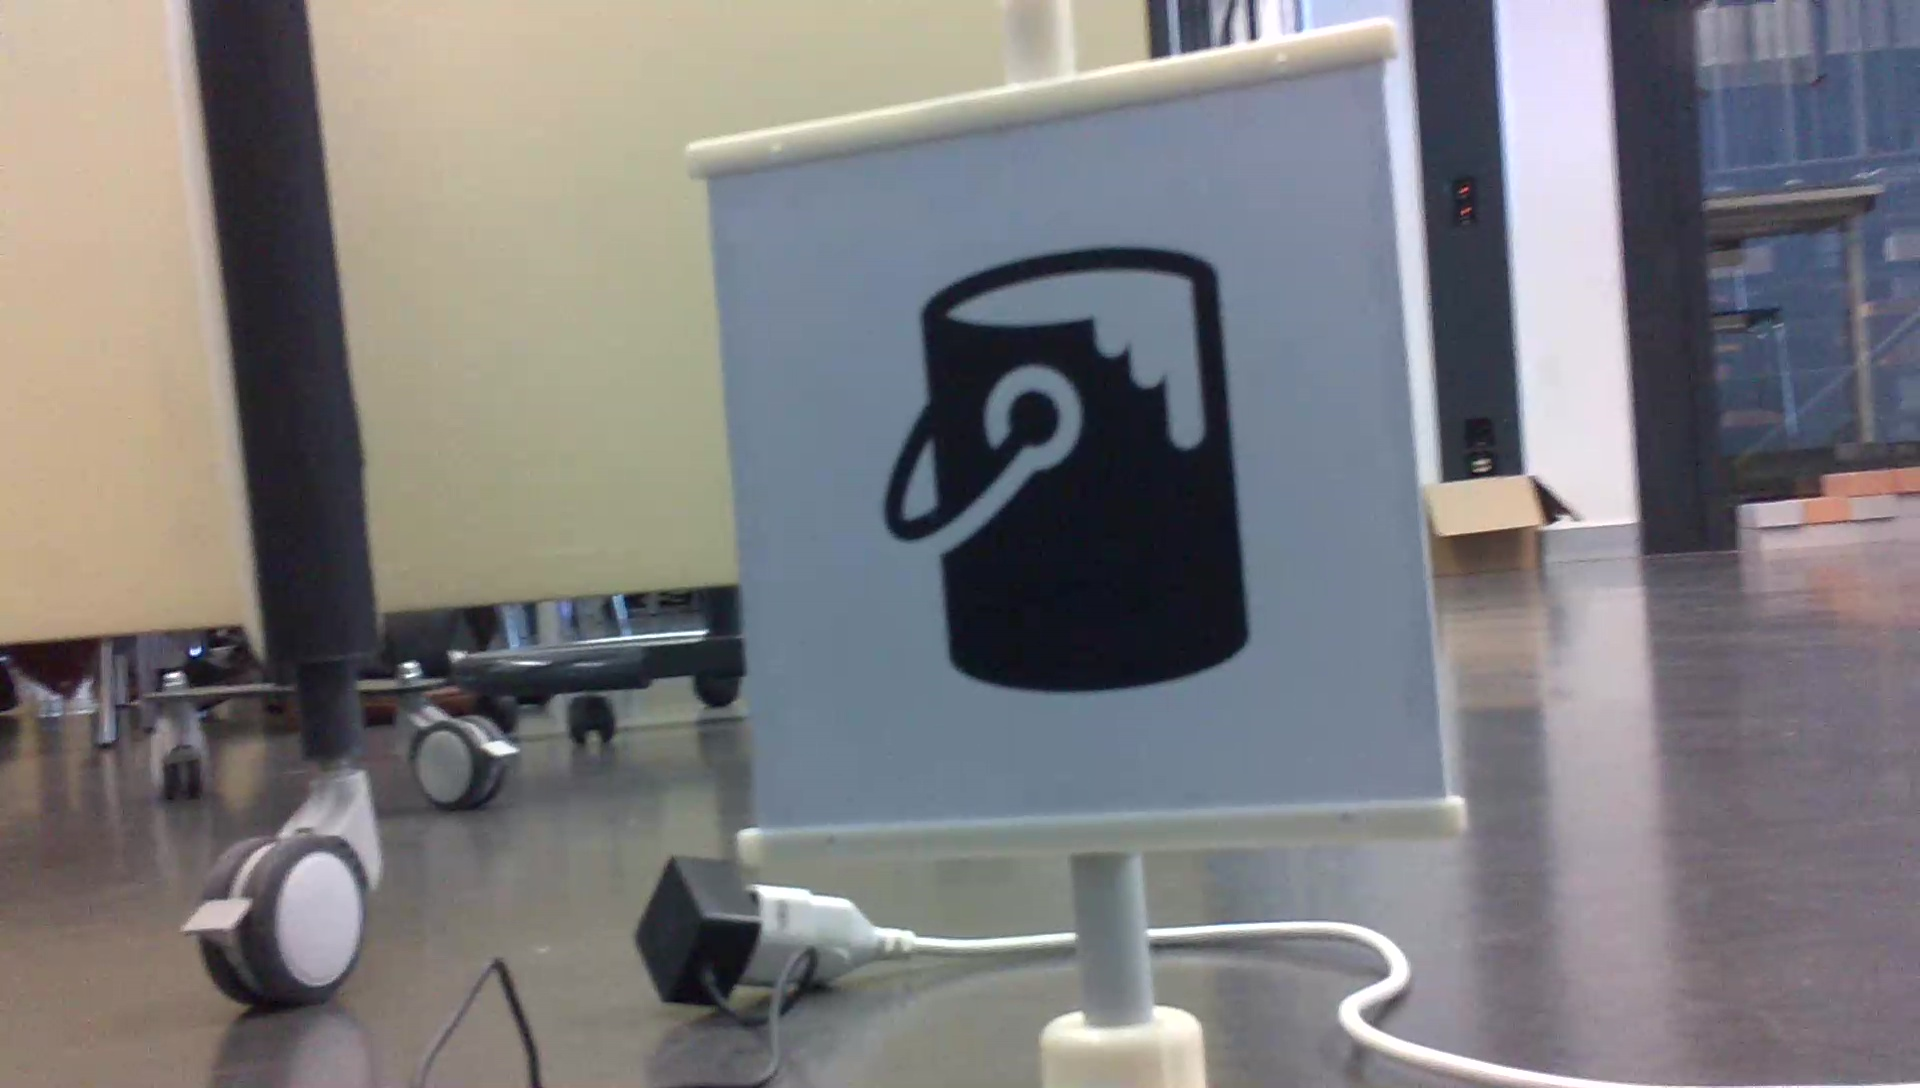bucket: (862, 235, 1262, 711)
